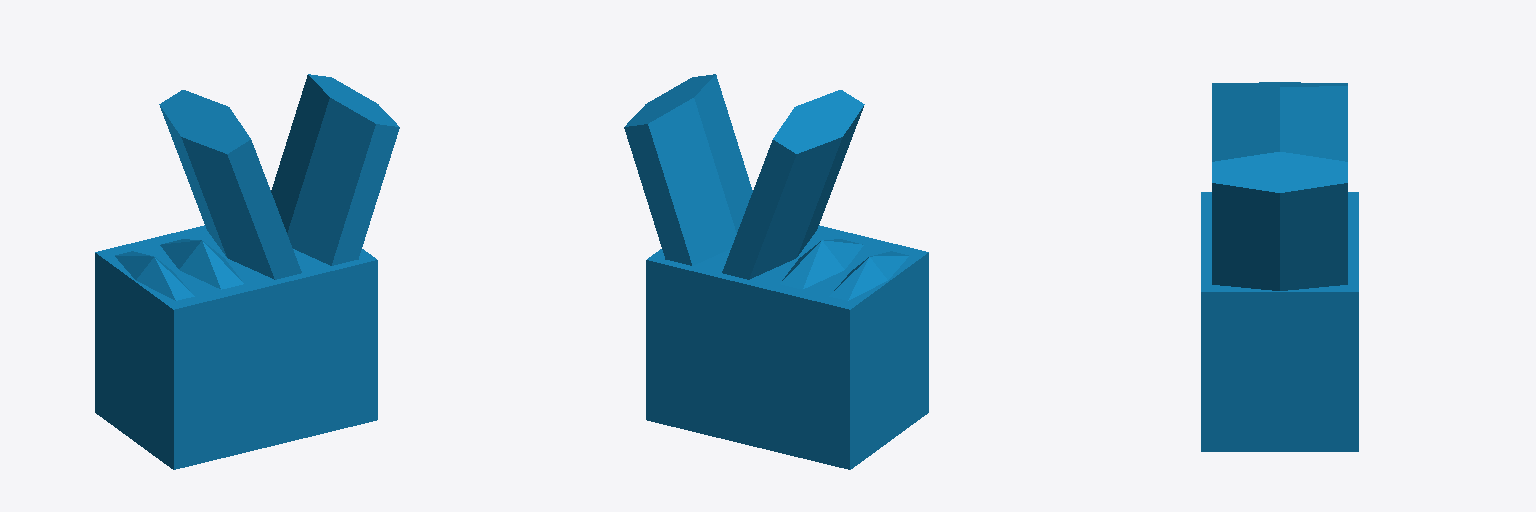
File: Scissors.obj
The picture shows the model from 3 angles: view 1: azimuth 30°, elevation 25°; view 2: azimuth 150°, elevation 25°; view 3: azimuth 270°, elevation 25°; orthographic projection.
Parts seen in each view (by area): view 1: Scissors; view 2: Scissors; view 3: Scissors.
Boxes of the visible parts, box(x1,y1,x2,y2) form: Scissors: box(95, 74, 399, 469); Scissors: box(624, 74, 928, 469); Scissors: box(1201, 82, 1358, 451).
Bounding box in the file's own units: 0.4477 × 0.5459 × 0.25.